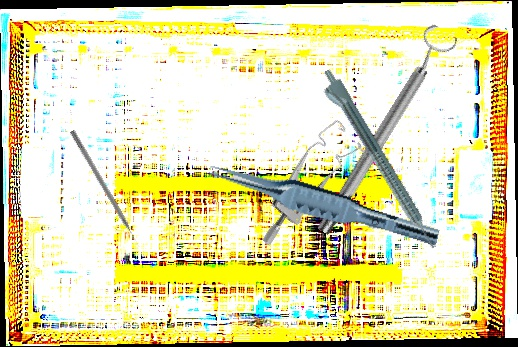Fixation Ring: (305, 21, 462, 241)
Handpiece: (313, 66, 440, 257)
Pusher: (68, 129, 142, 250)
Speculum: (231, 116, 377, 249)
Tissue Forceps: (204, 157, 444, 248)
